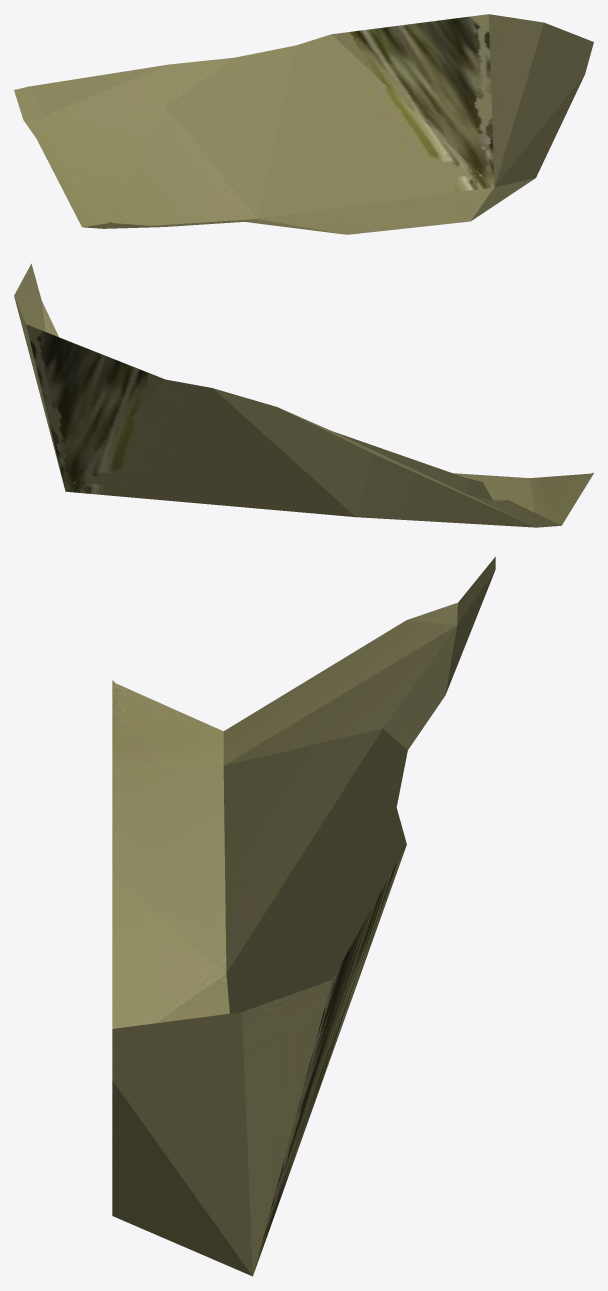
3 views of the same model, one above another, from view 1: azimuth 30°, elevation 25°; view 2: azimuth 150°, elevation 25°; view 3: azimuth 270°, elevation 25° (orthographic). The views are drawn at different scales.
Bounding box in the file's own units: 2.95 × 0.9024 × 1.01.
Materials: 1 (1 with a texture image).
